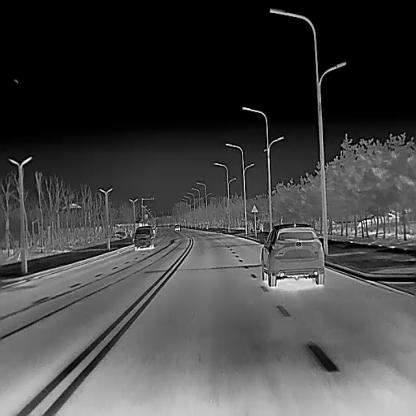car: (260, 221, 324, 285), (133, 224, 154, 249), (174, 225, 180, 230)
